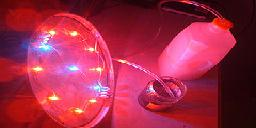LED: (26, 11, 116, 128)
